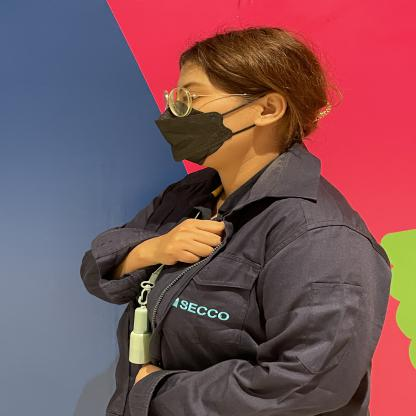Sadness: (39, 200, 284, 307)
